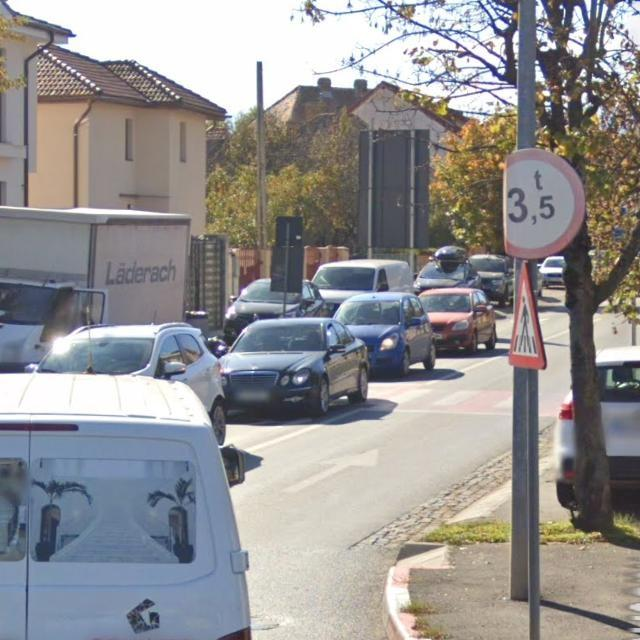warn_crosswalk: (507, 258, 549, 368)
